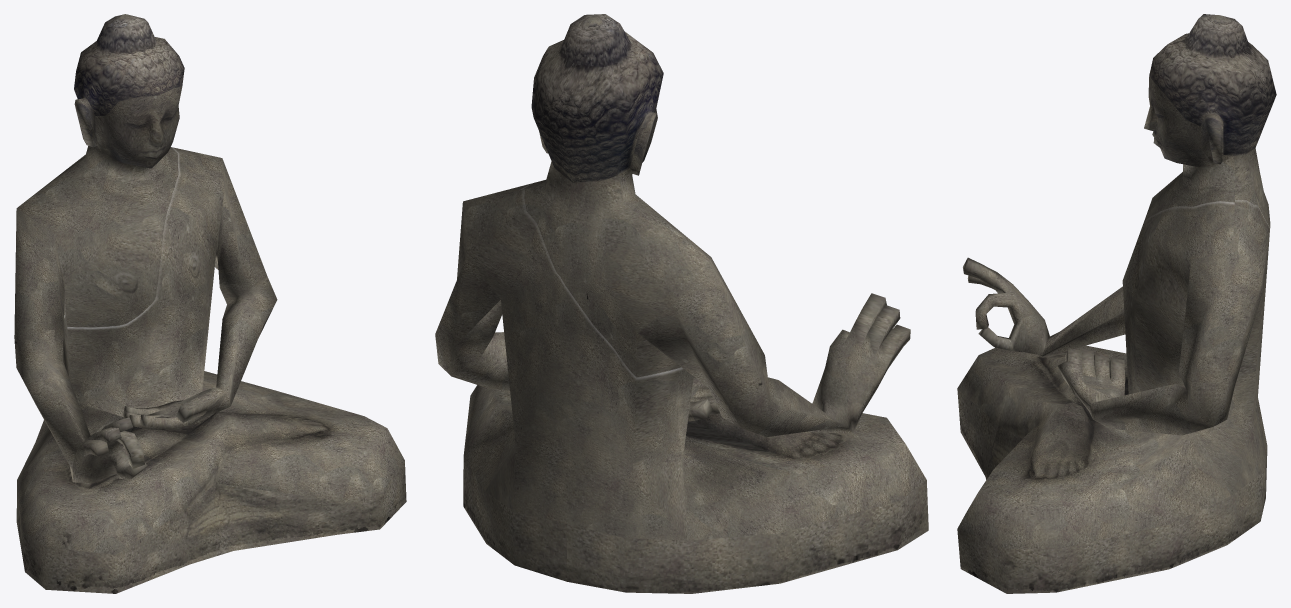
File: Patung_Tengah.FBX
The picture shows the model from 3 angles, left to right: view 1: azimuth 30°, elevation 25°; view 2: azimuth 150°, elevation 25°; view 3: azimuth 270°, elevation 25°; orthographic projection. The views are drawn at different scales.
Parts seen in each view (by area): view 1: Patung_Tengah; view 2: Patung_Tengah; view 3: Patung_Tengah.
Part boxes in pixels (box(x1,y1,x2,y2)): Patung_Tengah: box(14, 14, 406, 593); Patung_Tengah: box(435, 14, 928, 593); Patung_Tengah: box(957, 14, 1276, 593).
Bounding box in the file's own units: 0.7908 × 0.9594 × 0.572.
